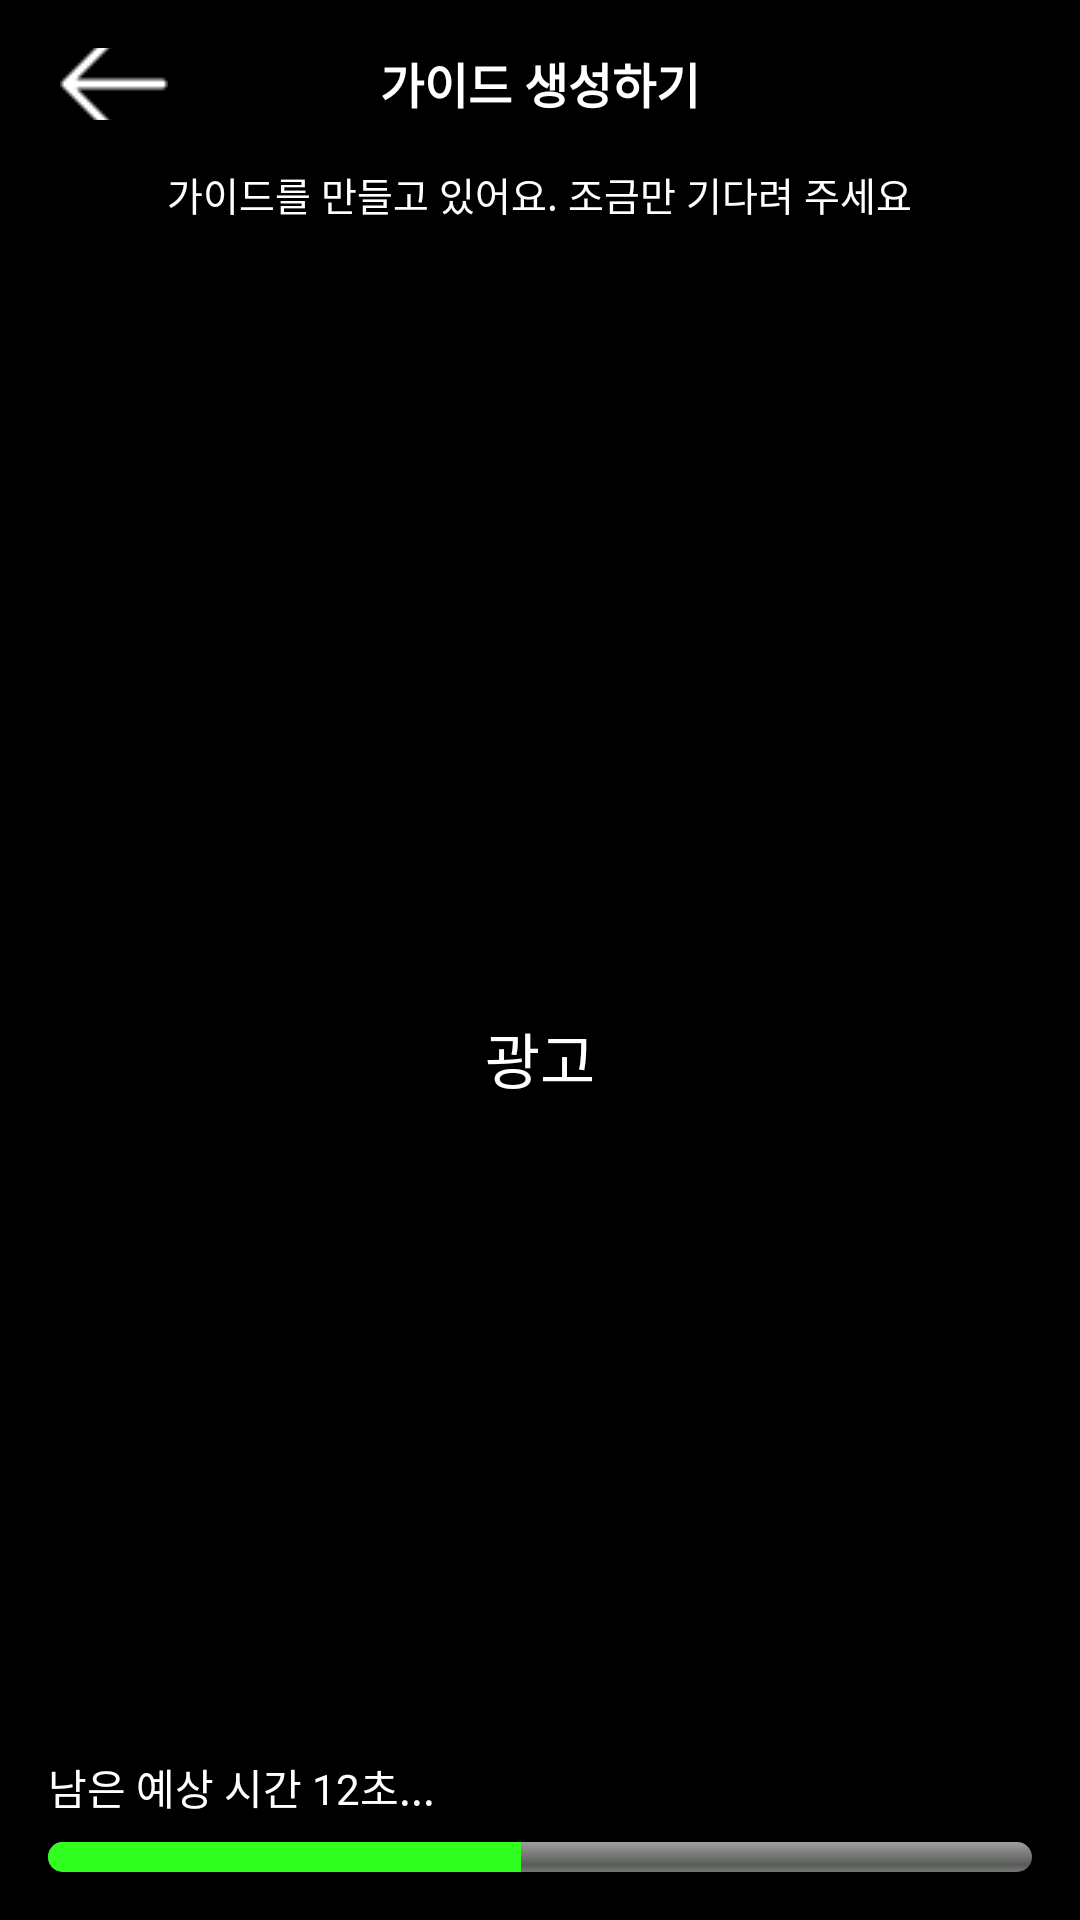

Where to tap for icons on this 1080 x 1920 app screen, as point (x, y):
Back: point (114, 84)
